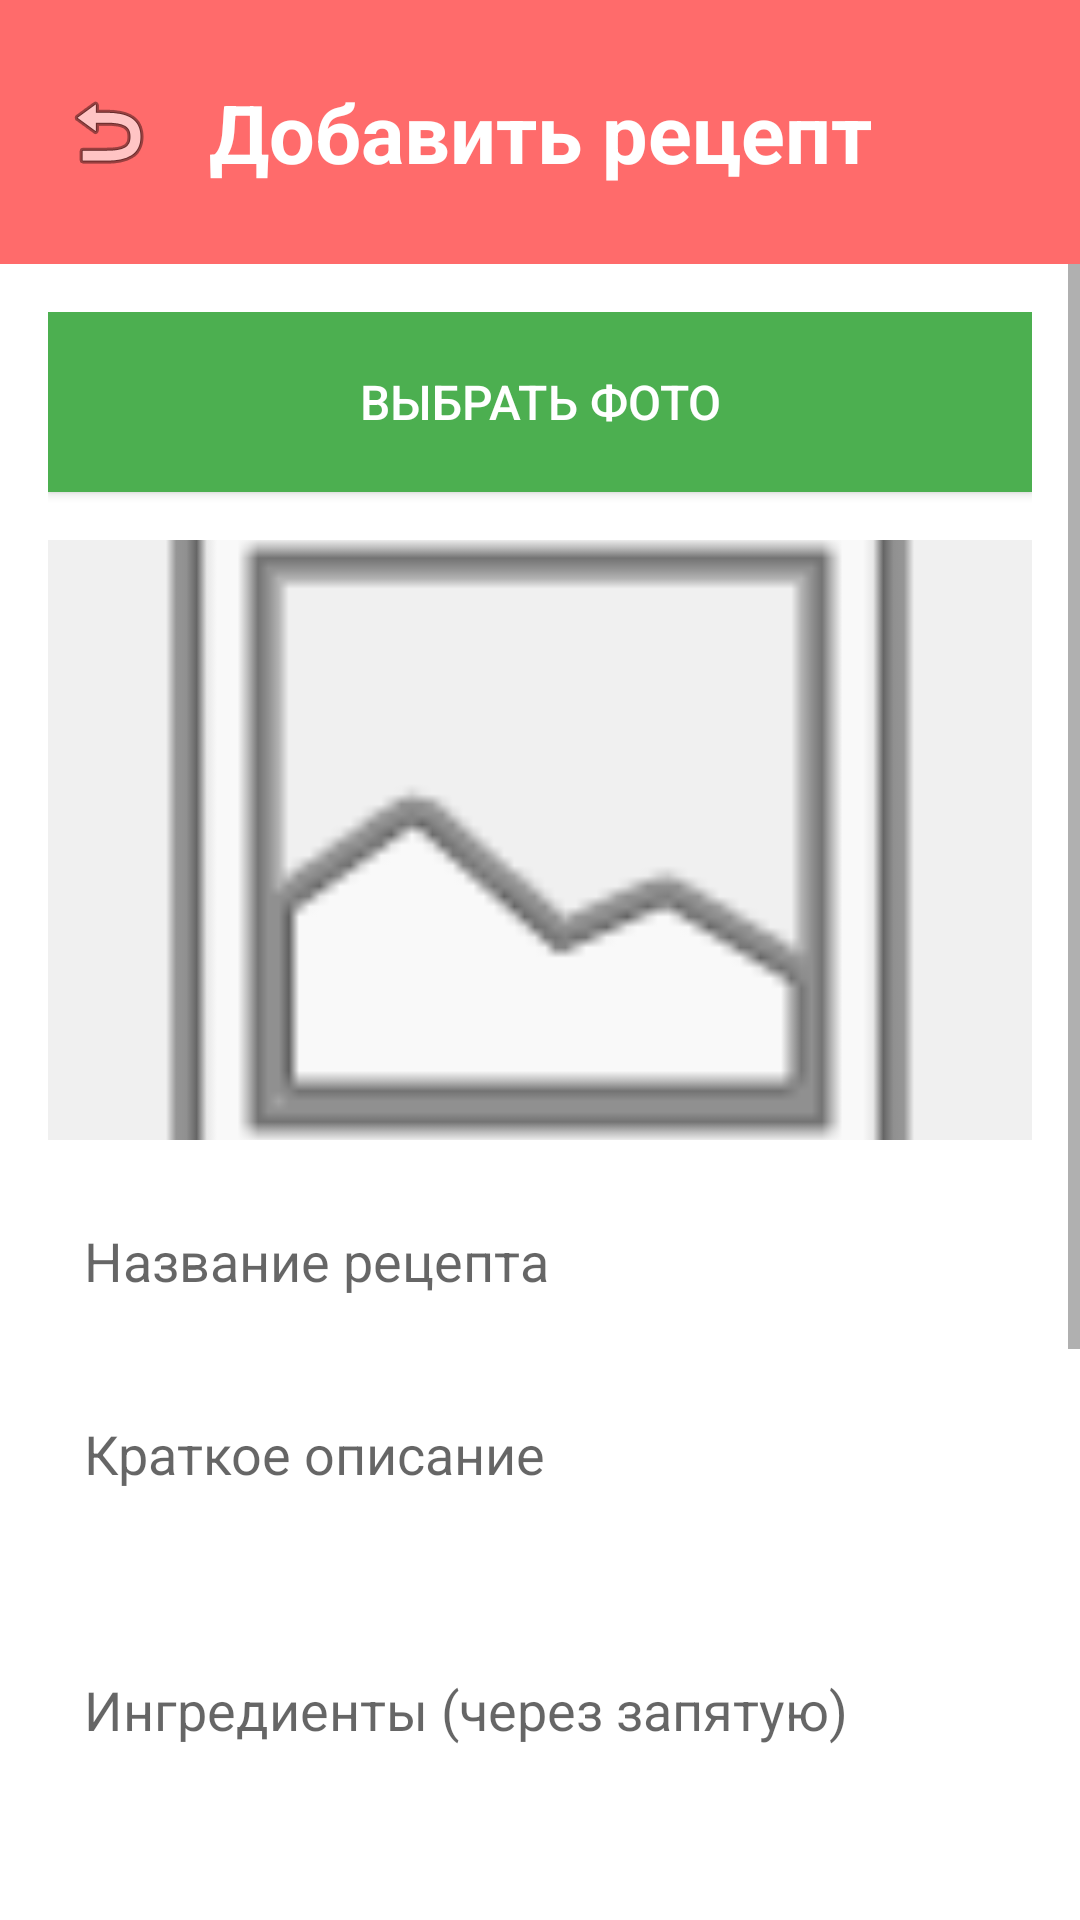

Point at icon controls on the screen. Image size 1080×1920, points as point (x, y).
Назад: point (109, 132)
